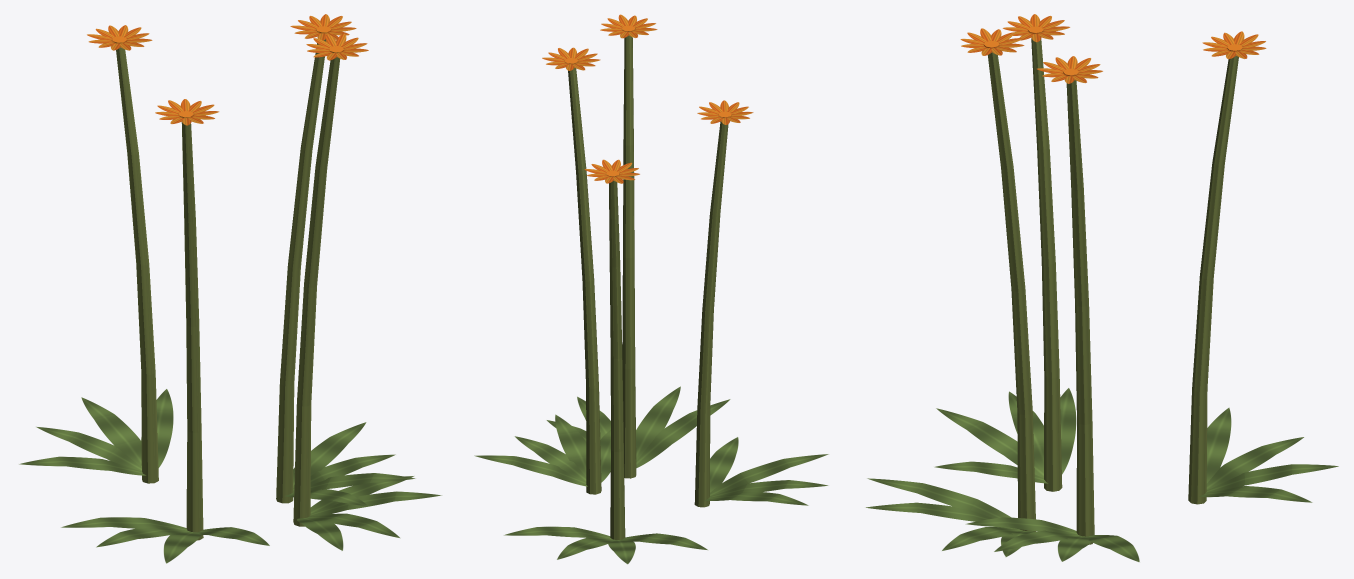
The model's file is savanna_sunflower_v02.glb.
3 views of the same model, side by side, from view 1: azimuth 30°, elevation 25°; view 2: azimuth 150°, elevation 25°; view 3: azimuth 270°, elevation 25° (orthographic). The views are drawn at different scales.
Parts seen in each view (by area): view 1: savanna_sunflower_v02; view 2: savanna_sunflower_v02; view 3: savanna_sunflower_v02.
Boxes of the visible parts, x1,y1,x2,y2 form: savanna_sunflower_v02: (19, 14, 441, 563); savanna_sunflower_v02: (474, 14, 828, 564); savanna_sunflower_v02: (866, 14, 1338, 561).
Bounding box in the file's own units: 0.6495 × 0.8673 × 0.7467.
Materials: 3 (3 with a texture image).
